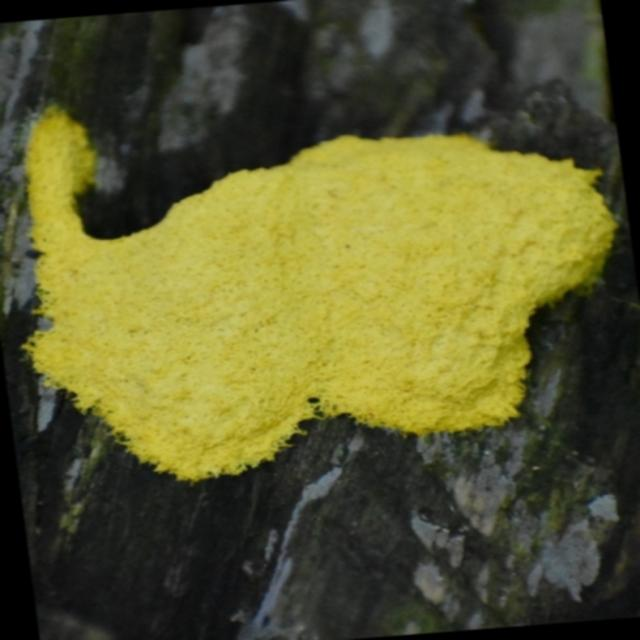Dog_vomit_slime_mold: (0, 80, 631, 491)
